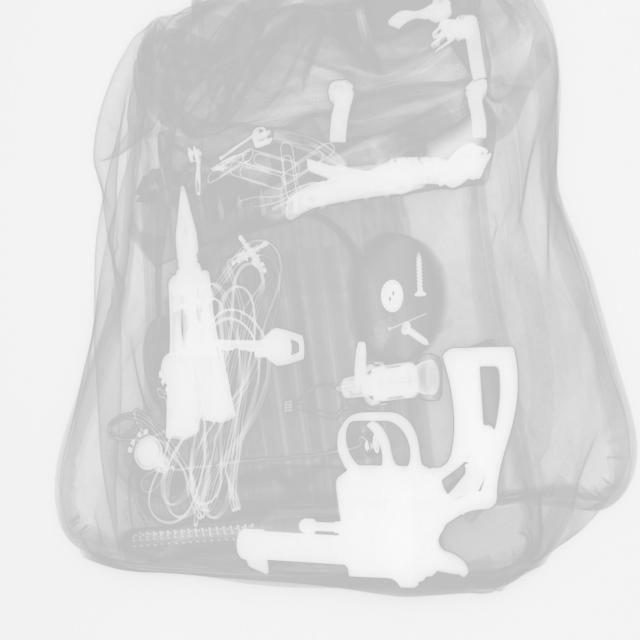pistol: (237, 347, 518, 588)
